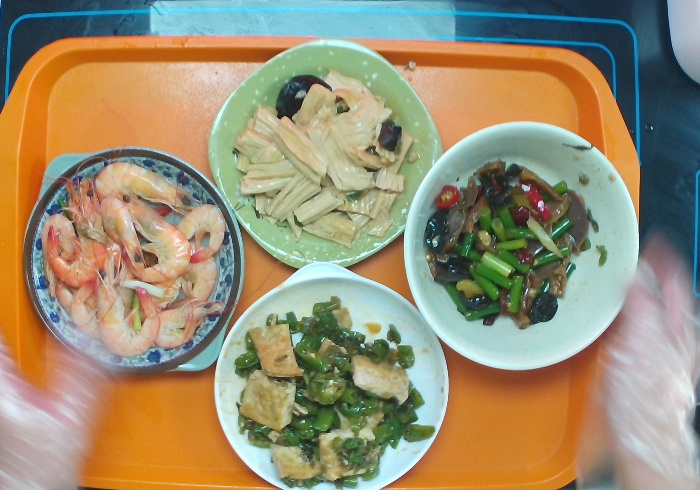NLDX-Bai_Se_Shuang_Er_Die: (209, 257, 451, 490)
NLDX-Bai_Se_Yuan_Wan: (398, 117, 641, 374)
NLDX-Lv_Hua_Fang_Die: (203, 36, 447, 275)
NLDX-Qing_Hua_Shuang_Er_Die: (19, 144, 248, 377)
